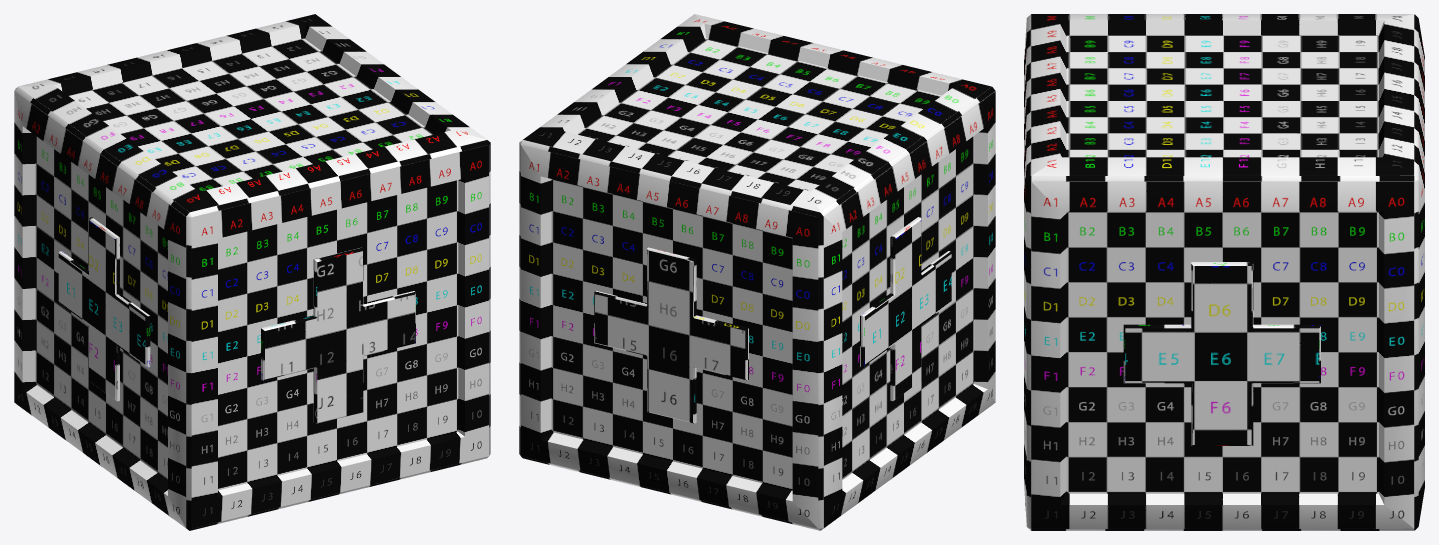
File: Health Box.fbx
3 renders of one model, left to right at view 1: azimuth 30°, elevation 25°; view 2: azimuth 150°, elevation 25°; view 3: azimuth 270°, elevation 25°, orthographic. The views are drawn at different scales.
Parts seen in each view (by area): view 1: Mesh; view 2: Mesh; view 3: Mesh.
Part boxes in pixels (box(x1,y1,x2,y2)): Mesh: box(14, 14, 490, 530); Mesh: box(519, 14, 995, 530); Mesh: box(1024, 14, 1424, 530).
Bounding box in the file's own units: 102 × 102 × 101.
Materials: 3 (3 with a texture image).
